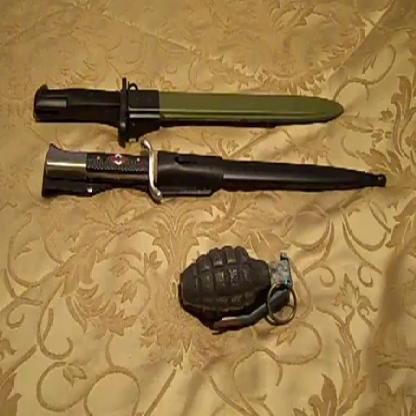Grenade: (179, 244, 297, 335)
Knife: (42, 140, 387, 205), (34, 77, 346, 140)
